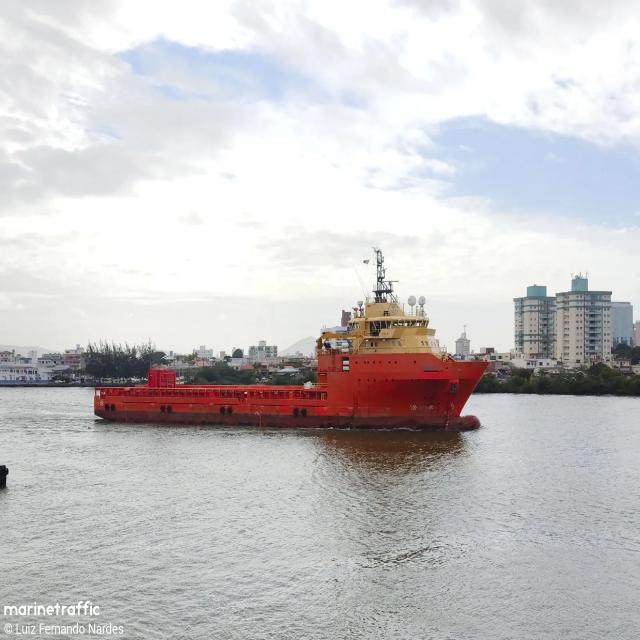Offshore: (94, 249, 488, 430)
